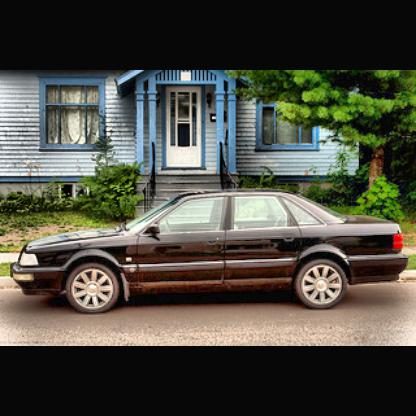Audi V8 Sedan 1994: (11, 196, 408, 313)
